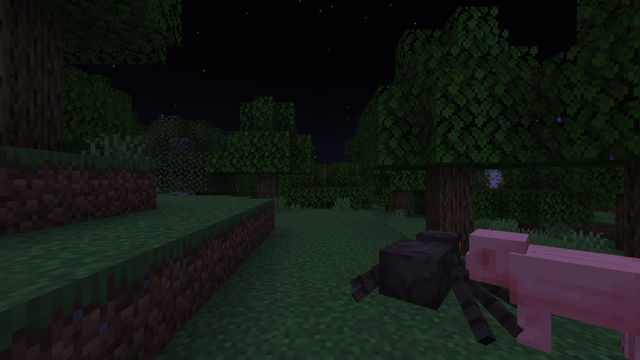araignees: (368, 224, 498, 328)
cochons: (513, 242, 633, 354)
